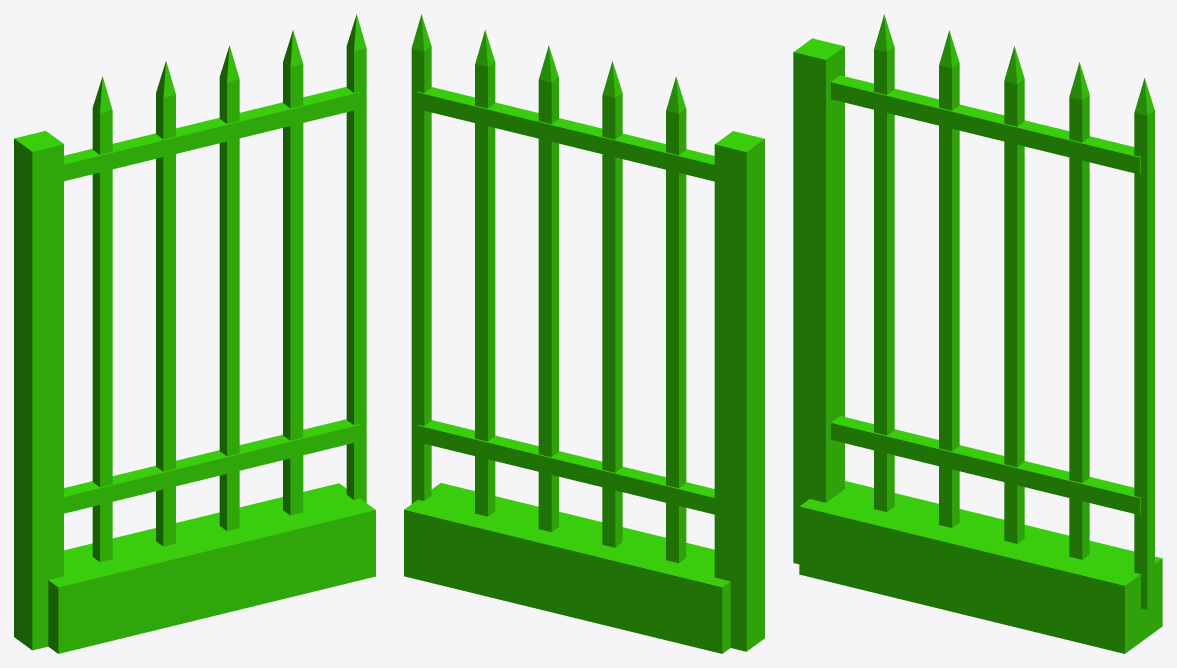
File: fence2_06.fbx
3 views of the same model, side by side, from view 1: azimuth 30°, elevation 25°; view 2: azimuth 150°, elevation 25°; view 3: azimuth 330°, elevation 25° (orthographic). The views are drawn at different scales.
Parts seen in each view (by area): view 1: fence2_06; view 2: fence2_06; view 3: fence2_06.
Part boxes in pixels (<box>): fence2_06: <box>14,14,375,653</box>; fence2_06: <box>404,14,764,653</box>; fence2_06: <box>793,14,1162,653</box>.
Size of the model in its own units: 107 by 165 by 20.
